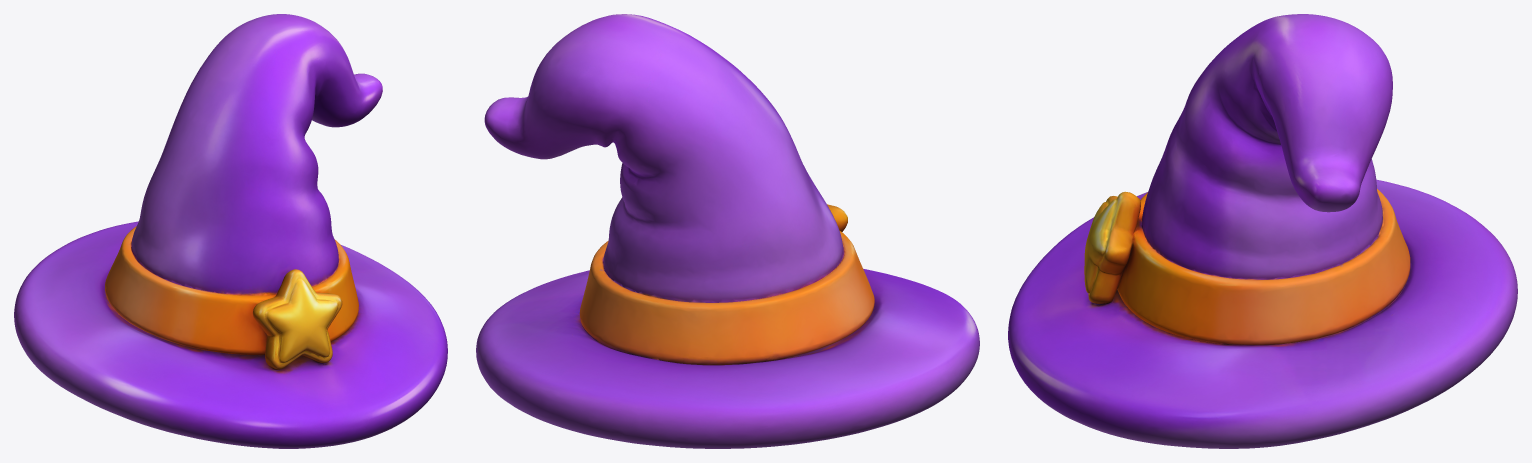
The model's file is witch_hat.glb.
3 renders of one model, left to right at view 1: azimuth 30°, elevation 25°; view 2: azimuth 150°, elevation 25°; view 3: azimuth 270°, elevation 25°, orthographic. The views are drawn at different scales.
Parts seen in each view (by area): view 1: tripo_node_e519bd18-68ed-43f6-bc93-8f11edc1d05e; view 2: tripo_node_e519bd18-68ed-43f6-bc93-8f11edc1d05e; view 3: tripo_node_e519bd18-68ed-43f6-bc93-8f11edc1d05e.
Part boxes in pixels (box(x1,y1,x2,y2)): tripo_node_e519bd18-68ed-43f6-bc93-8f11edc1d05e: box(14, 14, 447, 448); tripo_node_e519bd18-68ed-43f6-bc93-8f11edc1d05e: box(476, 14, 979, 448); tripo_node_e519bd18-68ed-43f6-bc93-8f11edc1d05e: box(1008, 14, 1517, 448).
Bounding box in the file's own units: 1 × 0.8124 × 0.9965.
Materials: 1 (1 with a texture image).
